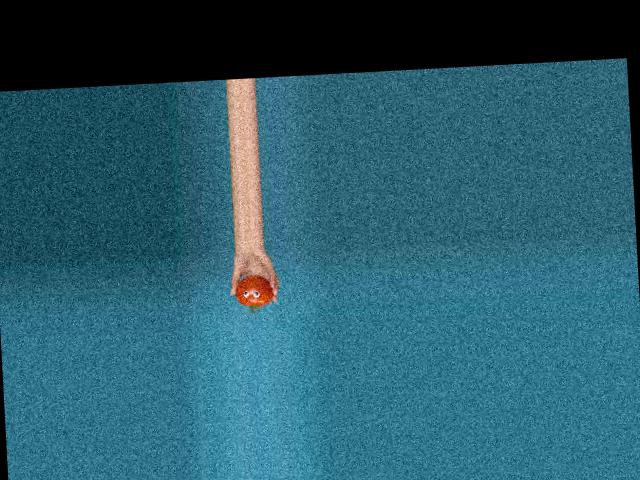tomato: (234, 273, 273, 307)
